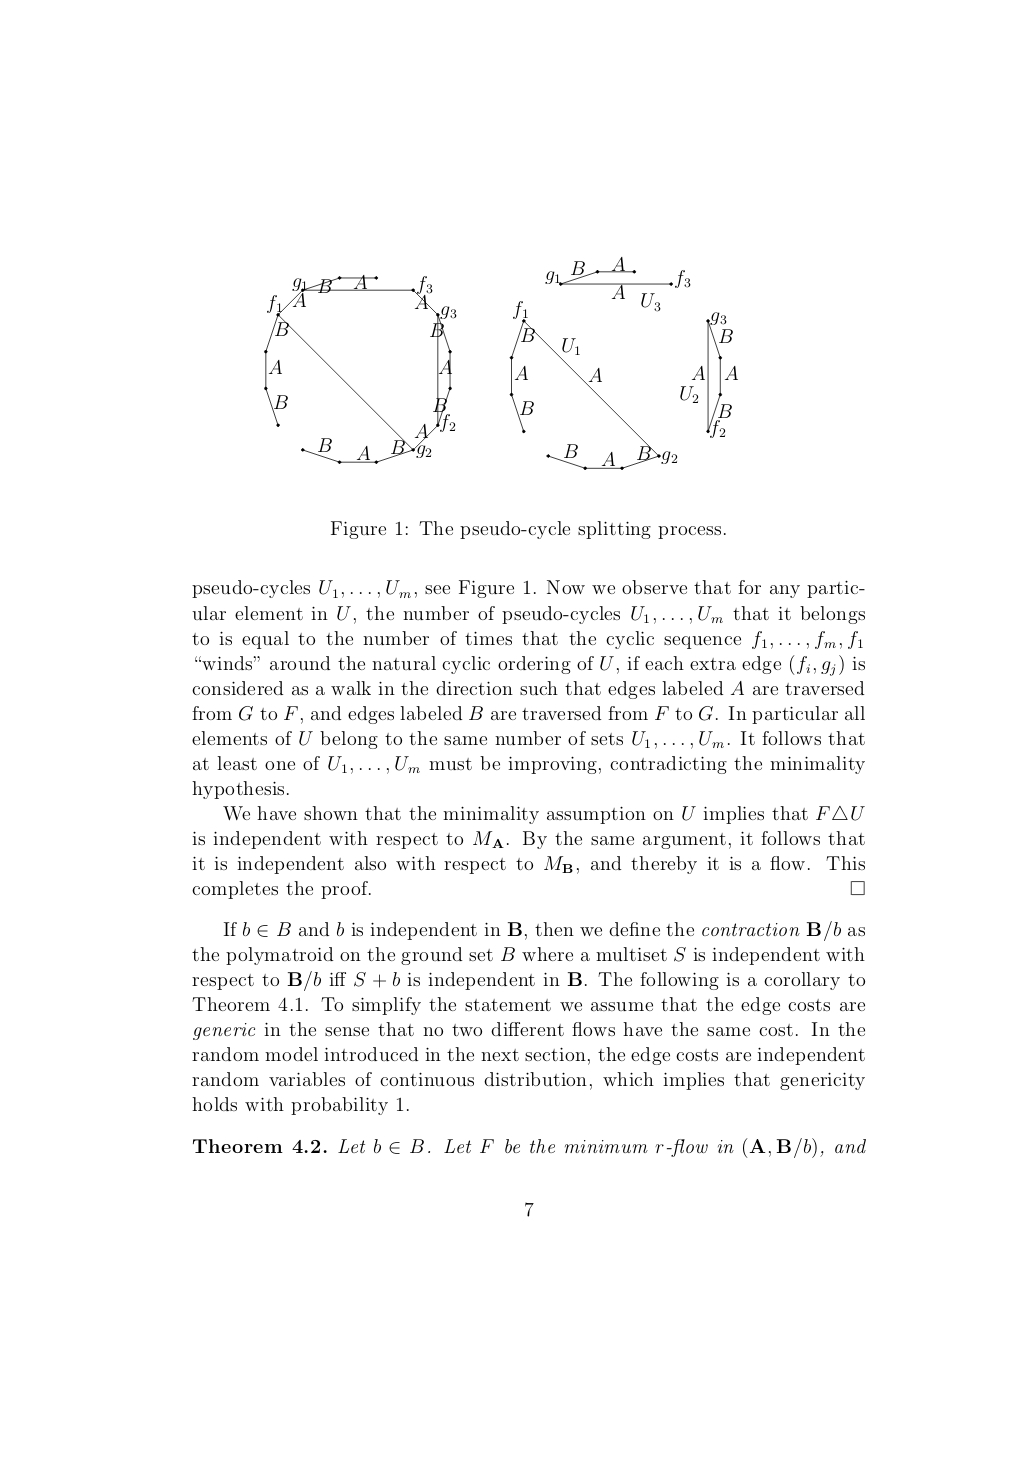figure: (509, 255, 737, 470), (264, 273, 456, 464)
